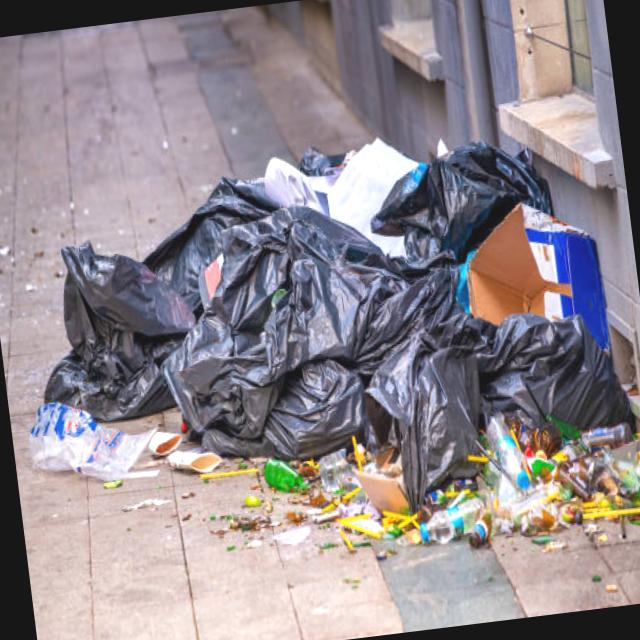garbage: (0, 82, 640, 597)
